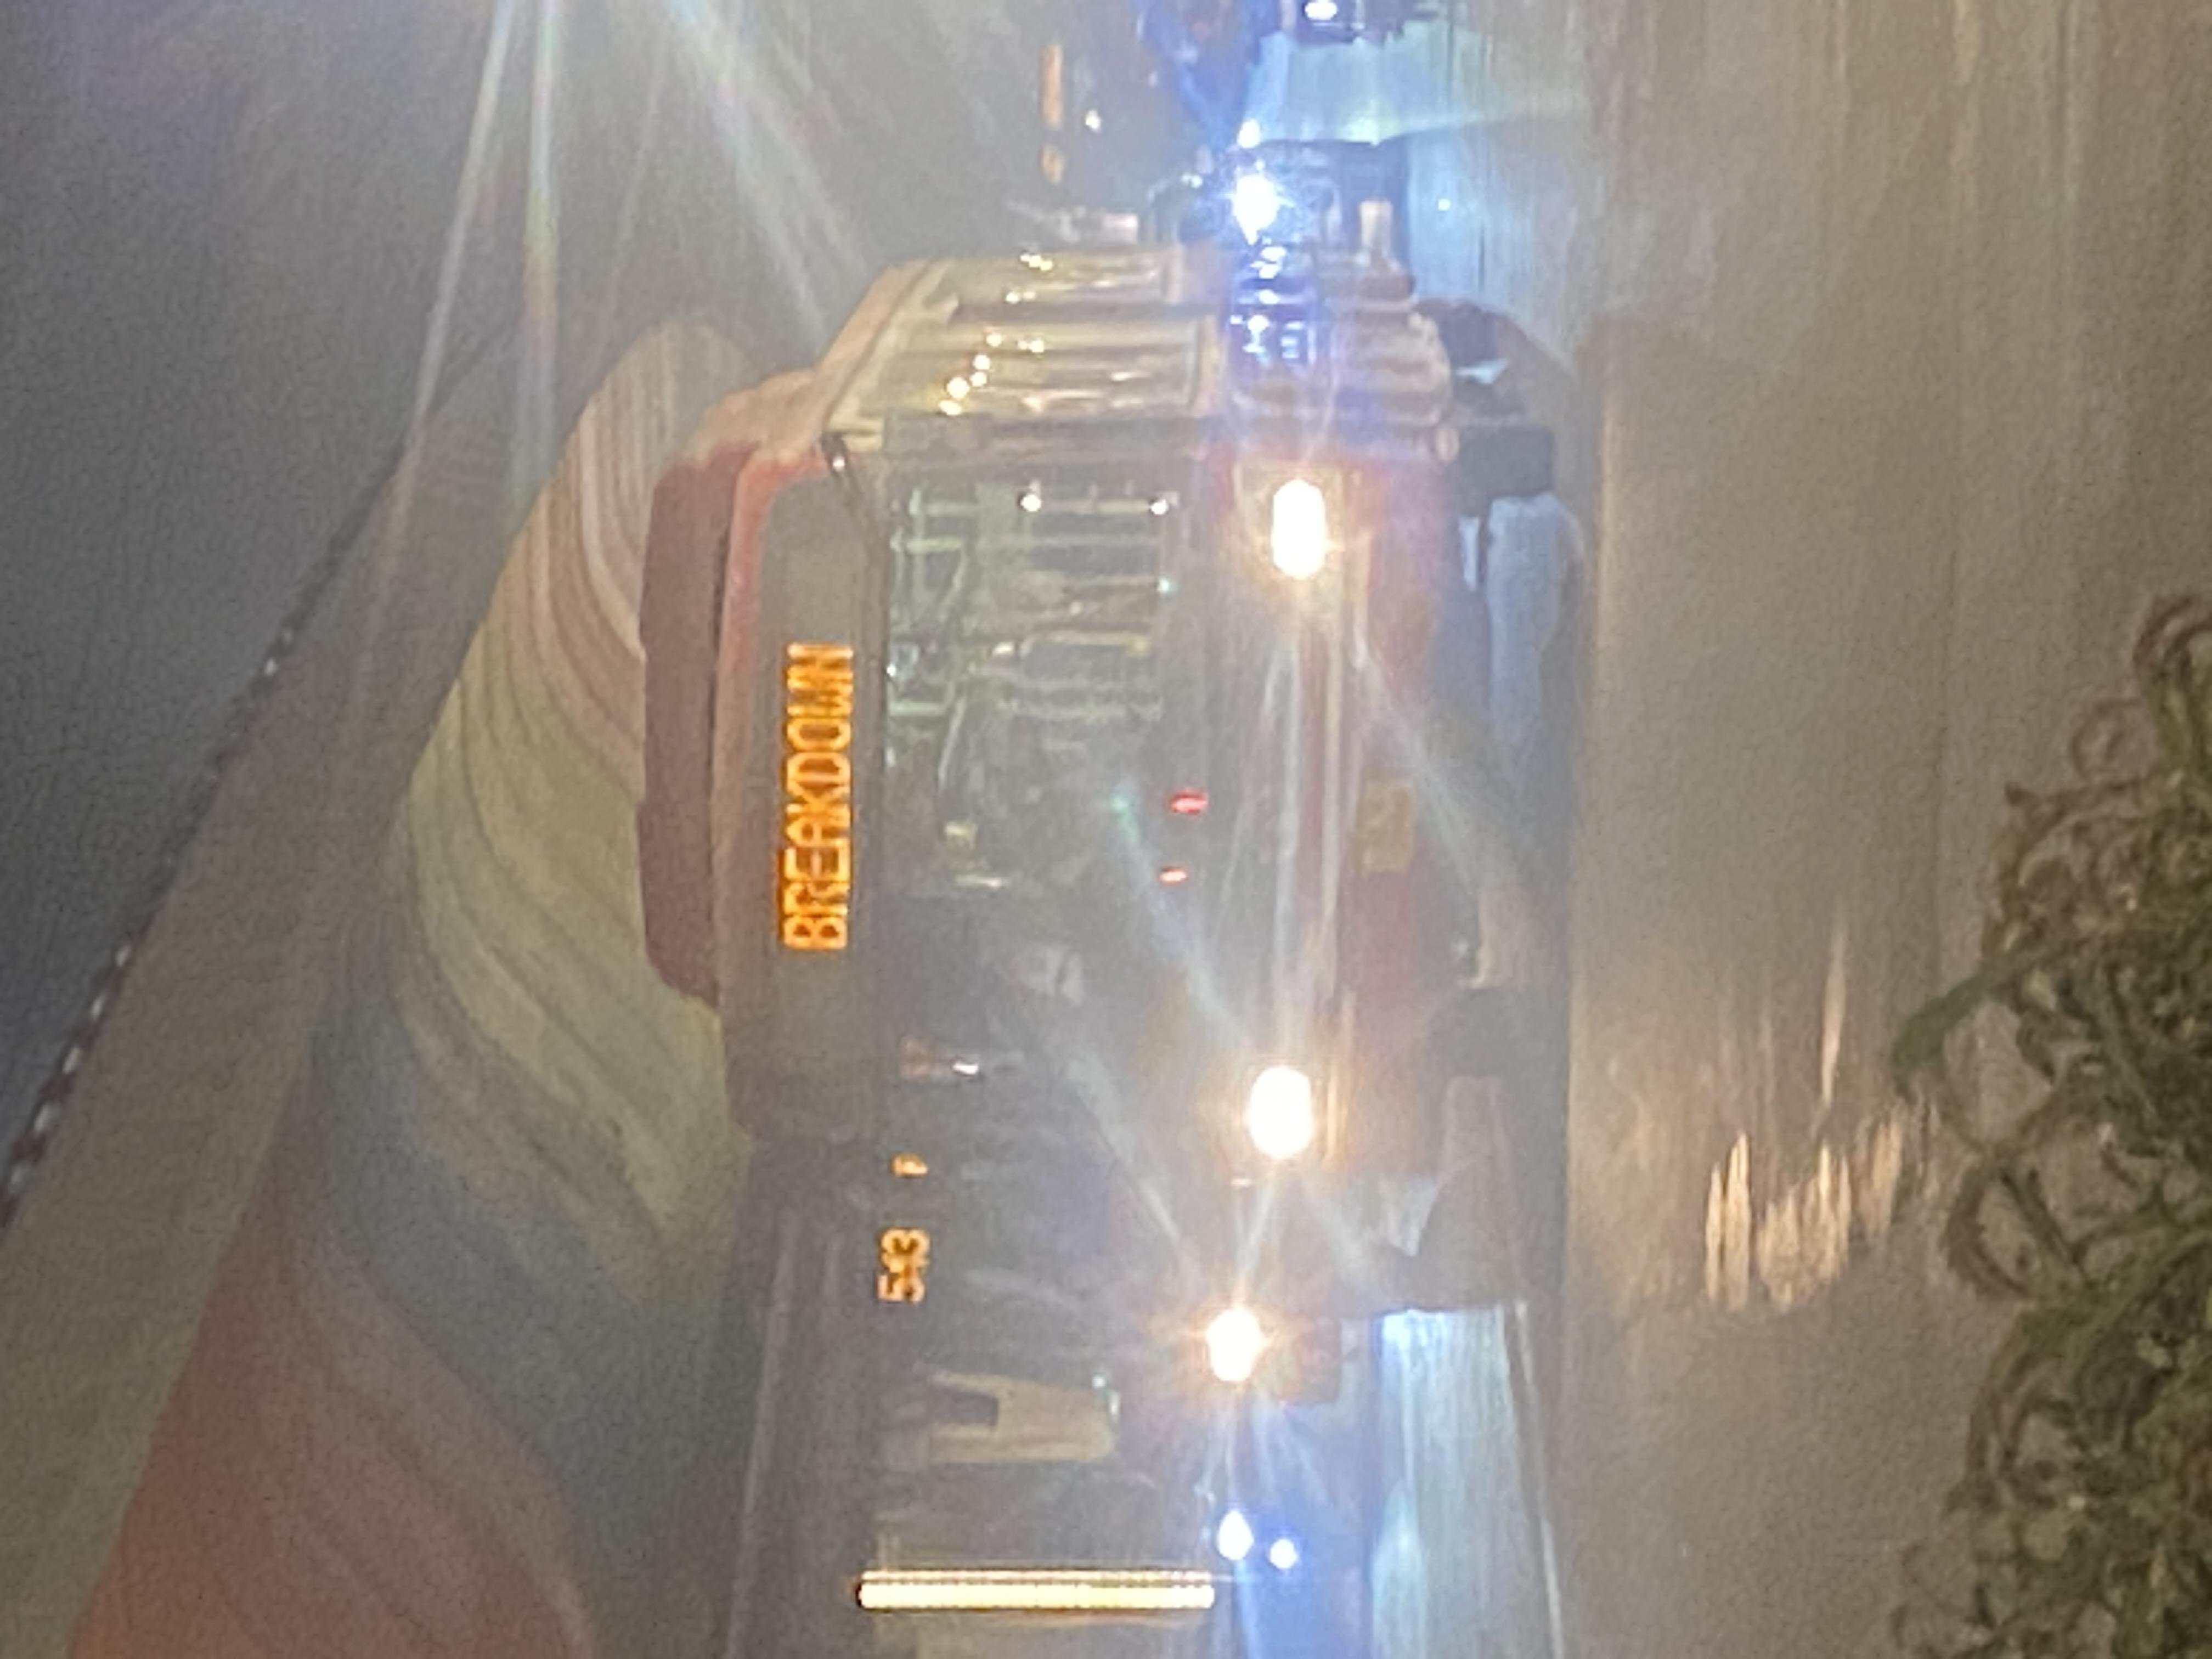Bus: (642, 390, 1514, 1212)
Display Board: (741, 439, 878, 1119), (817, 1201, 955, 1339)
